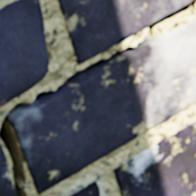brick: (11, 19, 195, 192), (57, 0, 194, 64), (113, 120, 195, 195), (0, 0, 48, 107), (0, 143, 14, 195)
broken_brick: (69, 181, 99, 195)
crack: (0, 0, 195, 195)
